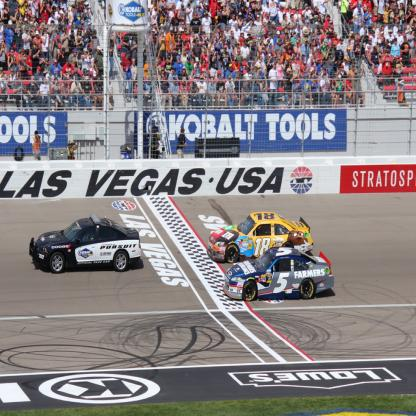Car: (30, 215, 142, 275), (223, 247, 336, 303), (208, 213, 315, 264)
